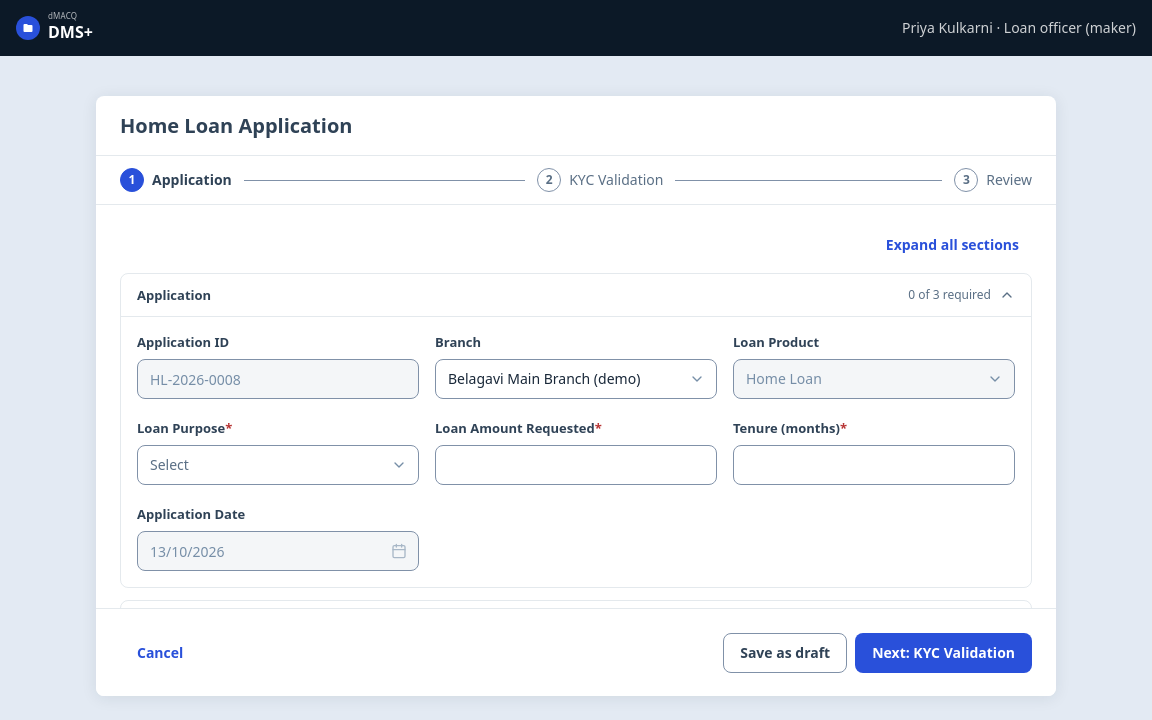
Scenario: Step 1 sections are accordions › the label follows a section opened by hand
The image size is (1152, 720).
What coordinates should you click on to do the following:
click the button "Expand all sections"
I would click on:
 (952, 245)
Its box is [873,229,1032,261].
(page scrolled)
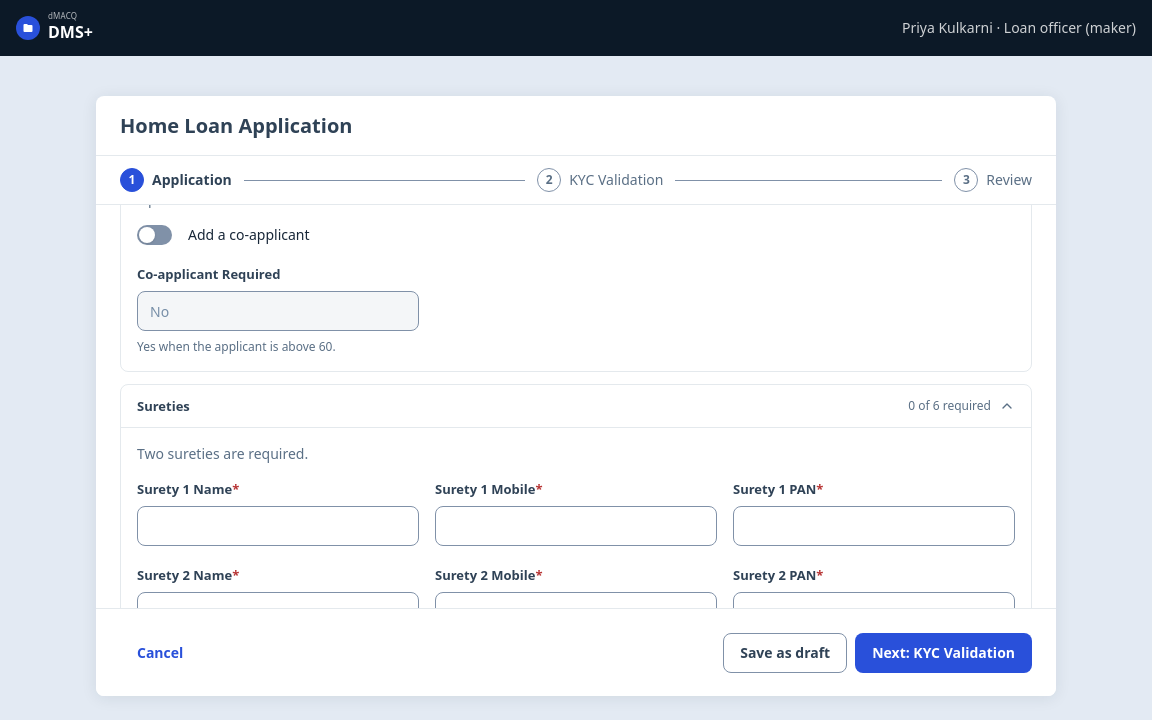
What coordinates should you click on to do the following:
click the button "Sureties 0 of 6 required"
I would click on:
 (163, 406)
Its box is [121,385,1031,427].
(page scrolled)
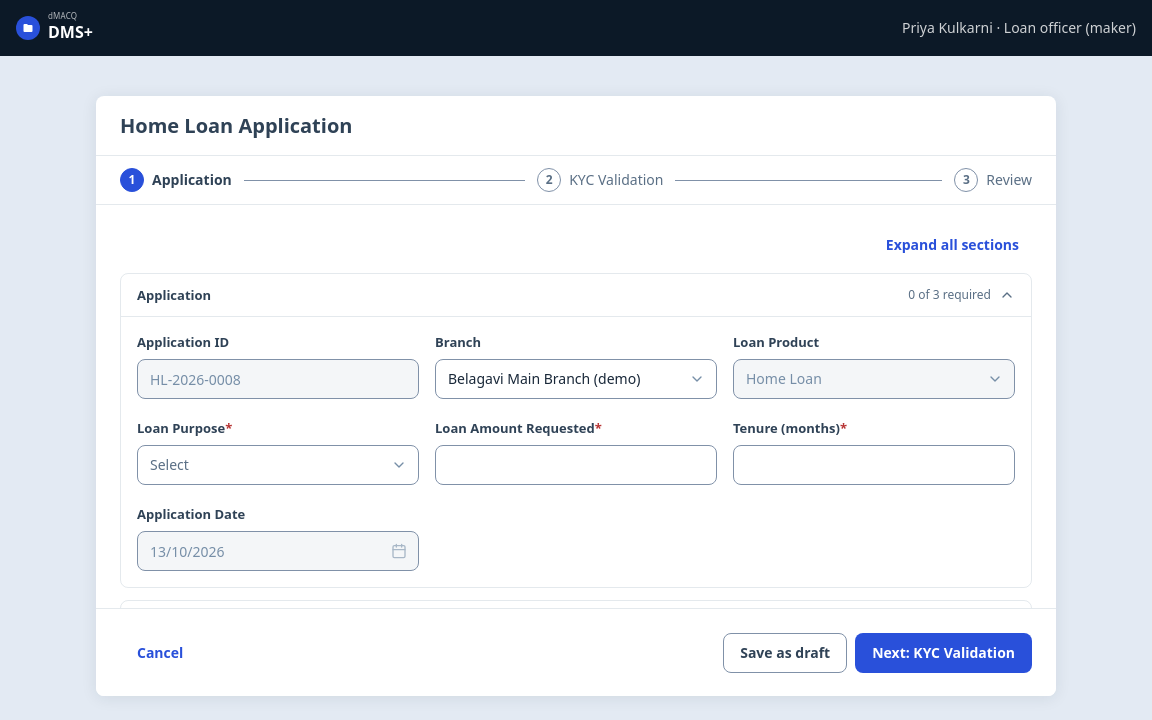
Result: the button "Expand all sections" is shown at [873,229,1032,261]
